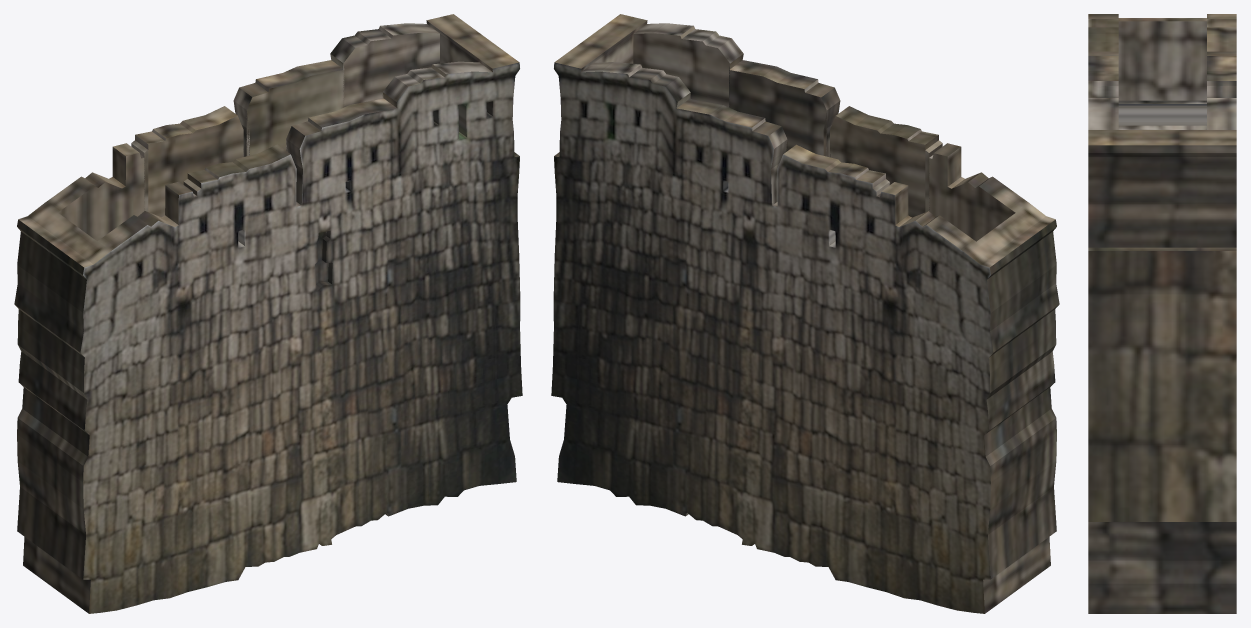
File: towers_reflected.glb
The picture shows the model from 3 angles, left to right: view 1: azimuth 30°, elevation 25°; view 2: azimuth 150°, elevation 25°; view 3: azimuth 270°, elevation 25°; orthographic projection. The views are drawn at different scales.
Parts seen in each view (by area): view 1: StoneWall-4581; view 2: StoneWall-4581; view 3: StoneWall-4581.
Boxes of the visible parts, x1=… form: StoneWall-4581: x1=14, y1=14, x2=522, y2=613; StoneWall-4581: x1=551, y1=14, x2=1059, y2=613; StoneWall-4581: x1=1088, y1=14, x2=1236, y2=613.
Bounding box in the file's own units: 99.15 × 97.86 × 25.69.
1 material, 1 textured.
